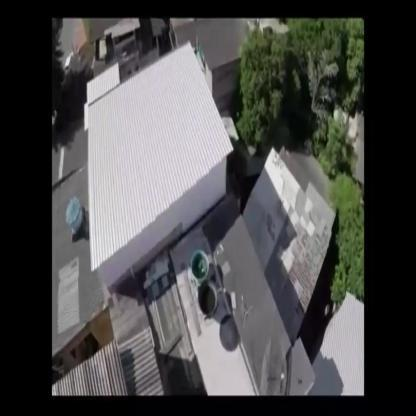agua: (198, 286, 217, 322), (191, 251, 208, 282)
